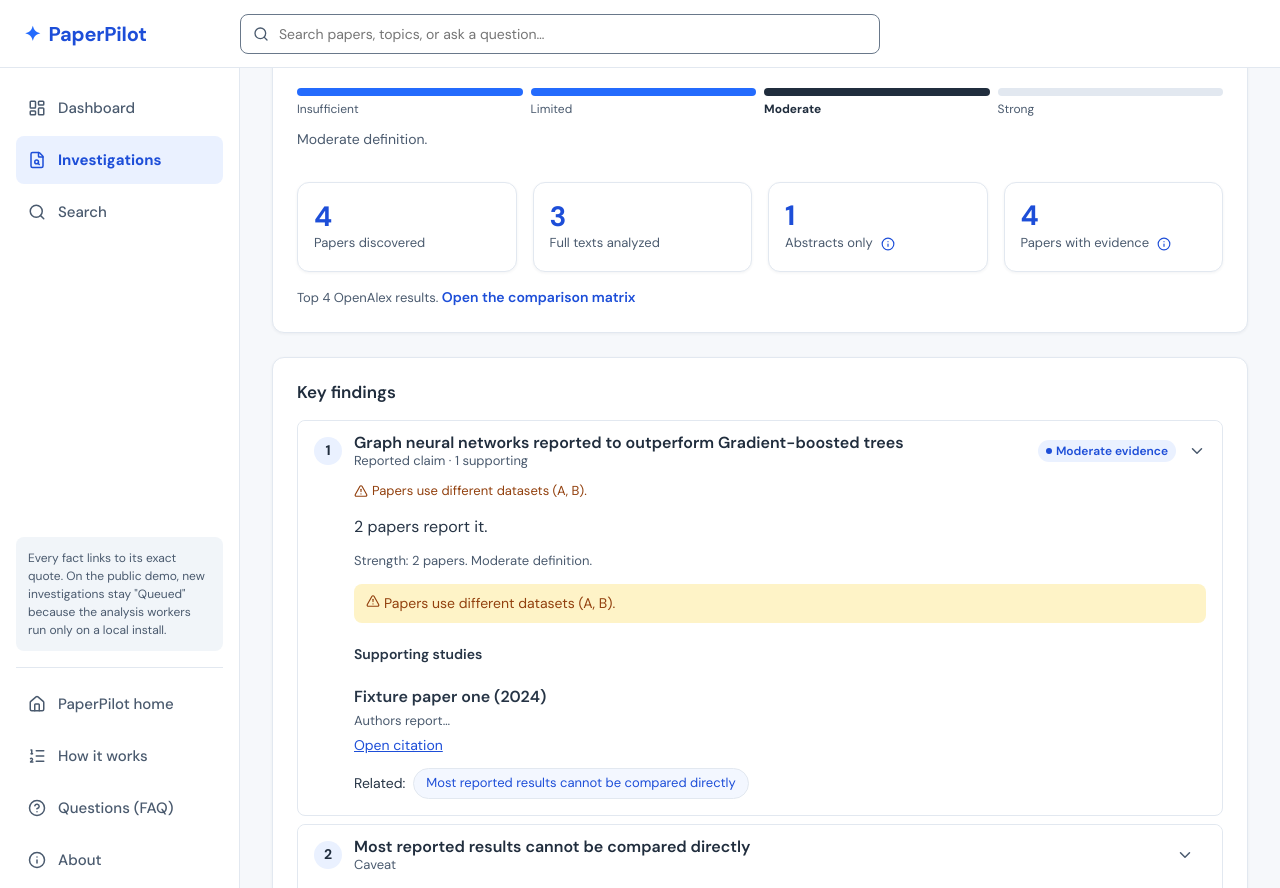
Test: ReportPage › opens the evidence inspector from a citation
(page scrolled)
Click the button "Graph neural networks reported to outperform".
click(760, 451)  # box [298,421,1222,481]
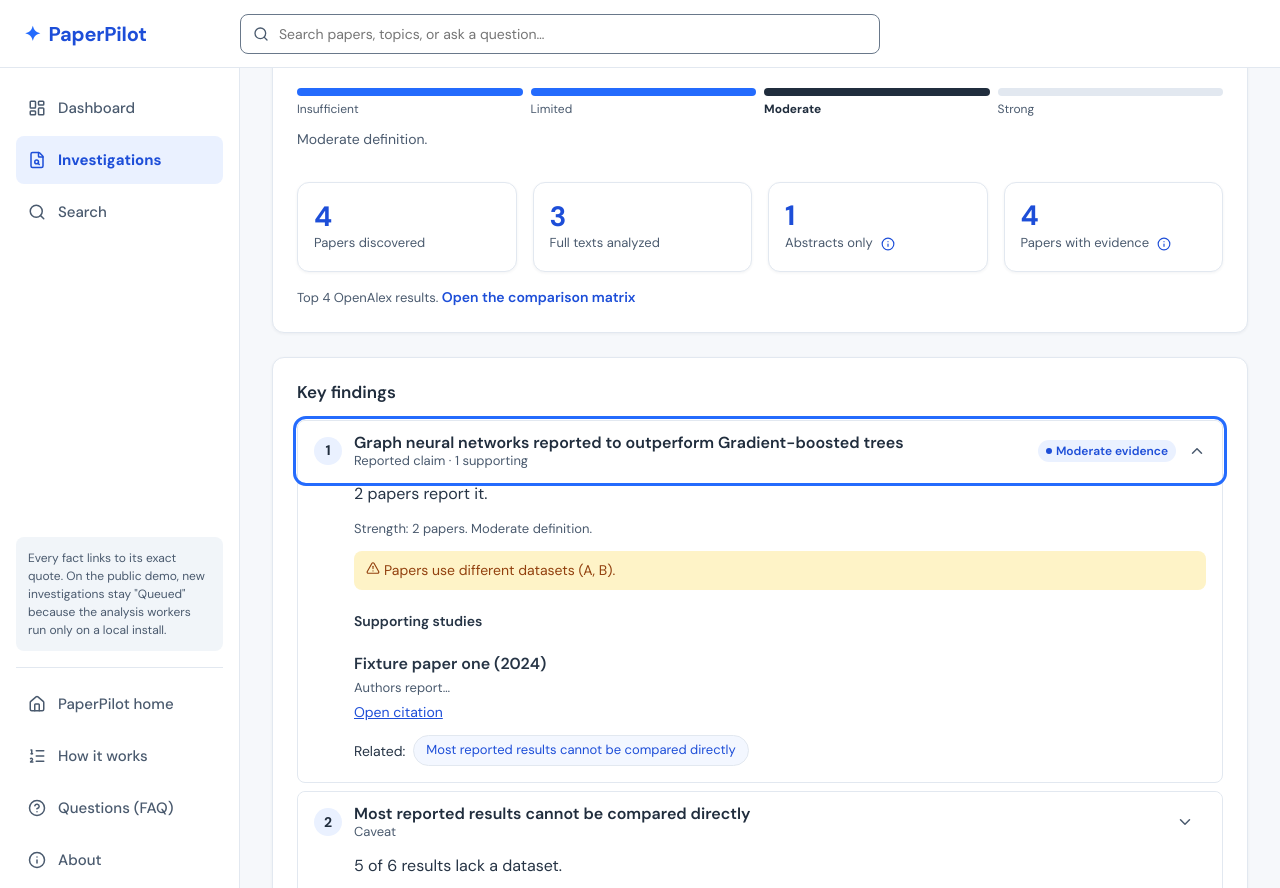
Click the button "Open citation".
click(398, 712)  # box [354,701,443,724]
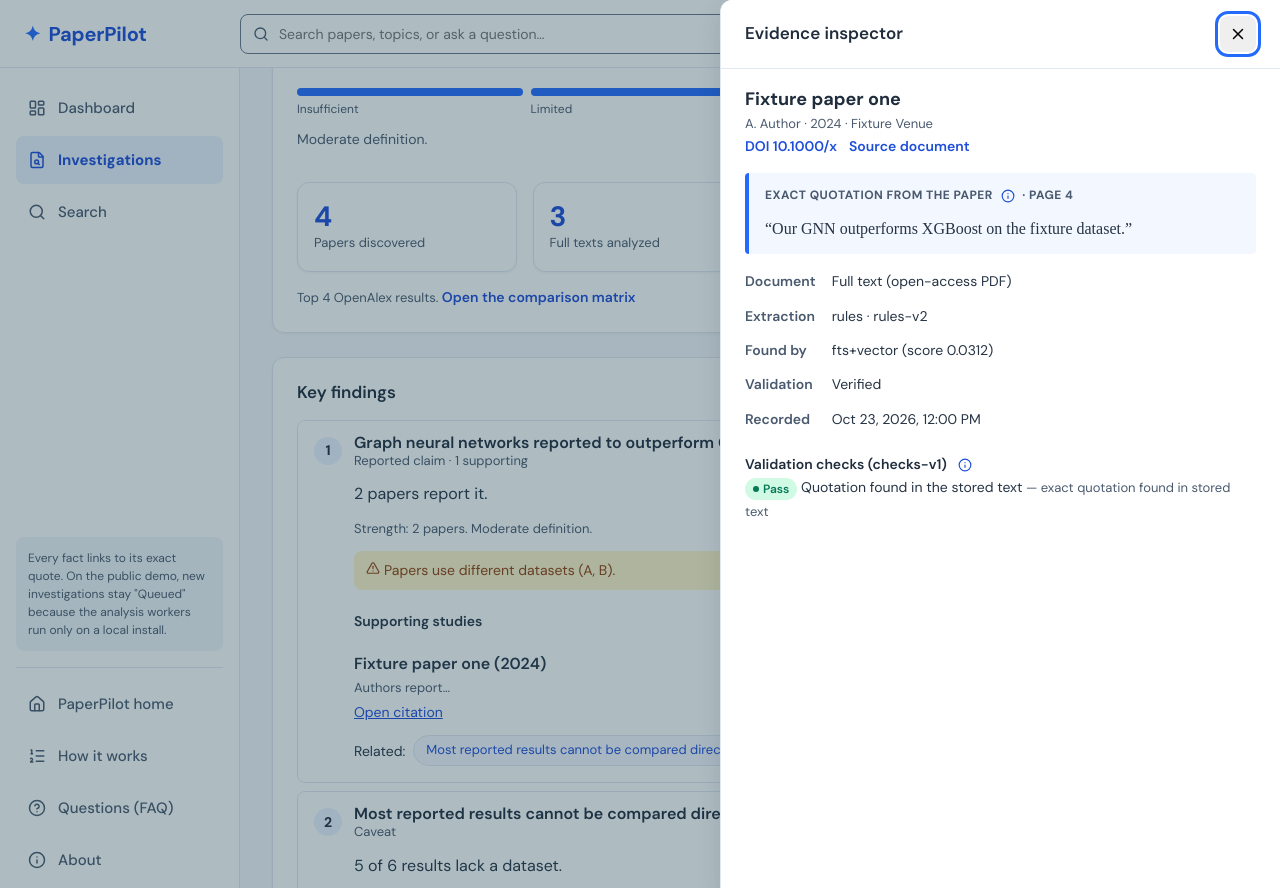
Result: the text "Exact quotation from the paper · page 4" is shown at [765,185,1073,207]
Result: the text "“Our GNN outperforms XGBoost on the fixture dataset.”" is shown at [765,220,1132,237]
Result: the list item "Quotation found in the stored text" is shown at [801,478,1022,496]
